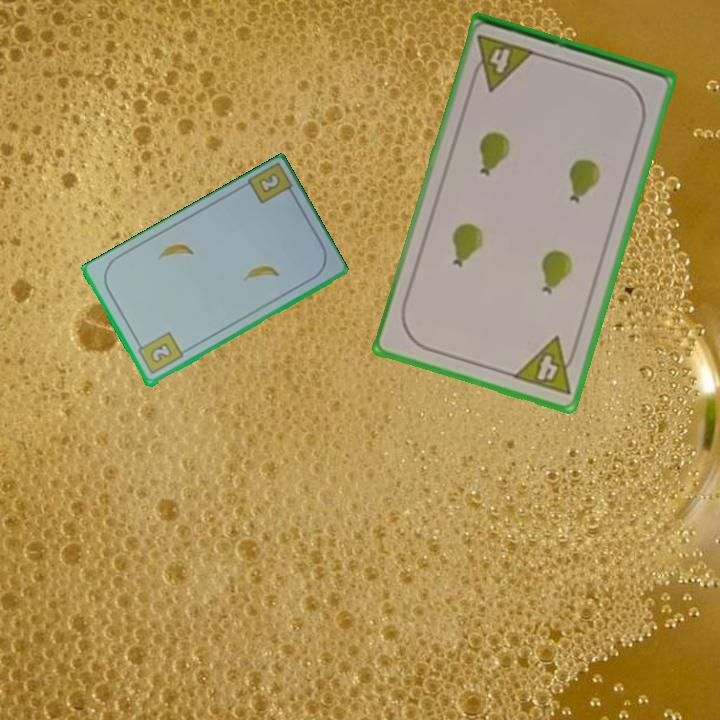2b: (133, 329, 186, 377), (255, 172, 281, 197)
4p: (509, 333, 582, 399), (467, 31, 538, 94)
